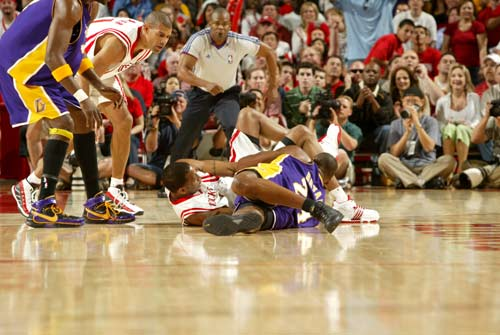10+: (1, 1, 500, 240)
down: (157, 108, 310, 237), (195, 149, 337, 241)
